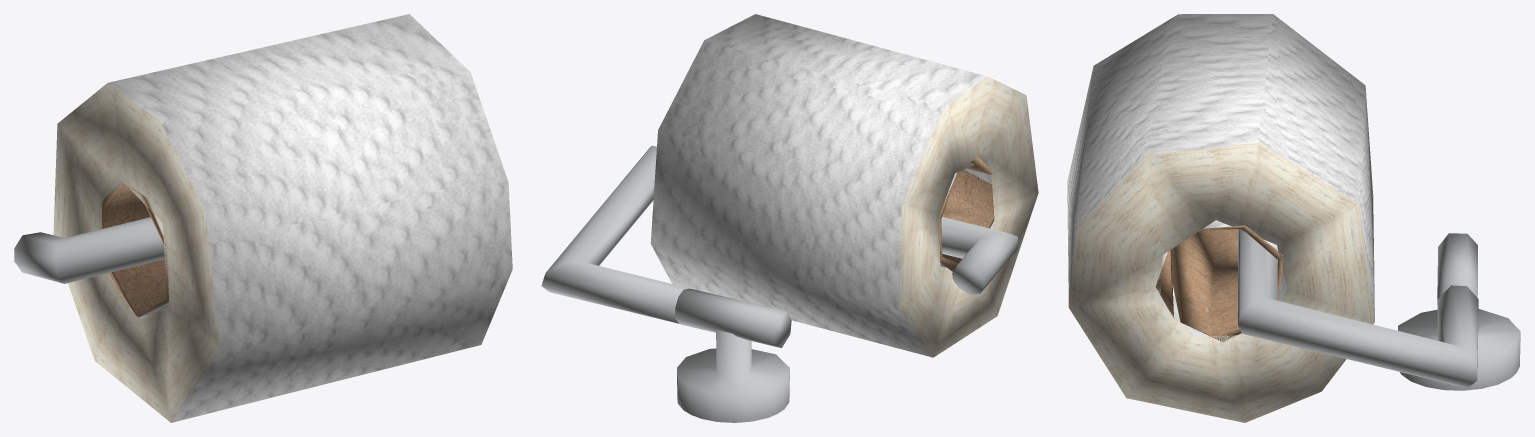
File: toilet paper.gltf
3 renders of one model, left to right at view 1: azimuth 30°, elevation 25°; view 2: azimuth 150°, elevation 25°; view 3: azimuth 270°, elevation 25°, orthographic. The views are drawn at different scales.
Parts seen in each view (by area): view 1: toilet_paper.001, Toilet paper holder; view 2: toilet_paper.001, Toilet paper holder; view 3: toilet_paper.001, Toilet paper holder.
Boxes of the visible parts, x1=… form: toilet_paper.001: x1=53, y1=14, x2=512, y2=422; Toilet paper holder: x1=14, y1=217, x2=164, y2=283; toilet_paper.001: x1=650, y1=14, x2=1038, y2=357; Toilet paper holder: x1=541, y1=145, x2=1017, y2=422; toilet_paper.001: x1=1067, y1=14, x2=1374, y2=422; Toilet paper holder: x1=1238, y1=229, x2=1520, y2=390.
Size of the model in its own units: 0.1407 by 0.0956 by 0.1372.
Materials: 4 (3 with a texture image).
